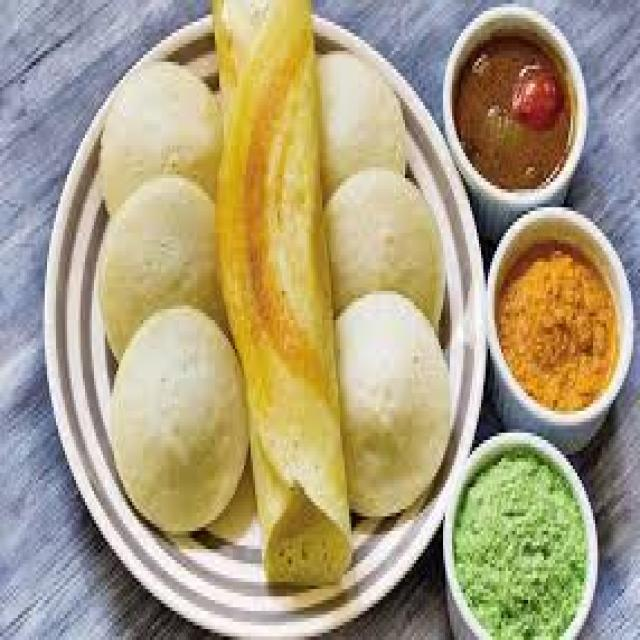DOSA: (208, 0, 353, 597)
IDLI: (112, 304, 251, 534), (337, 291, 452, 515), (100, 186, 226, 353), (326, 168, 446, 334), (103, 62, 223, 207), (311, 54, 407, 210)
